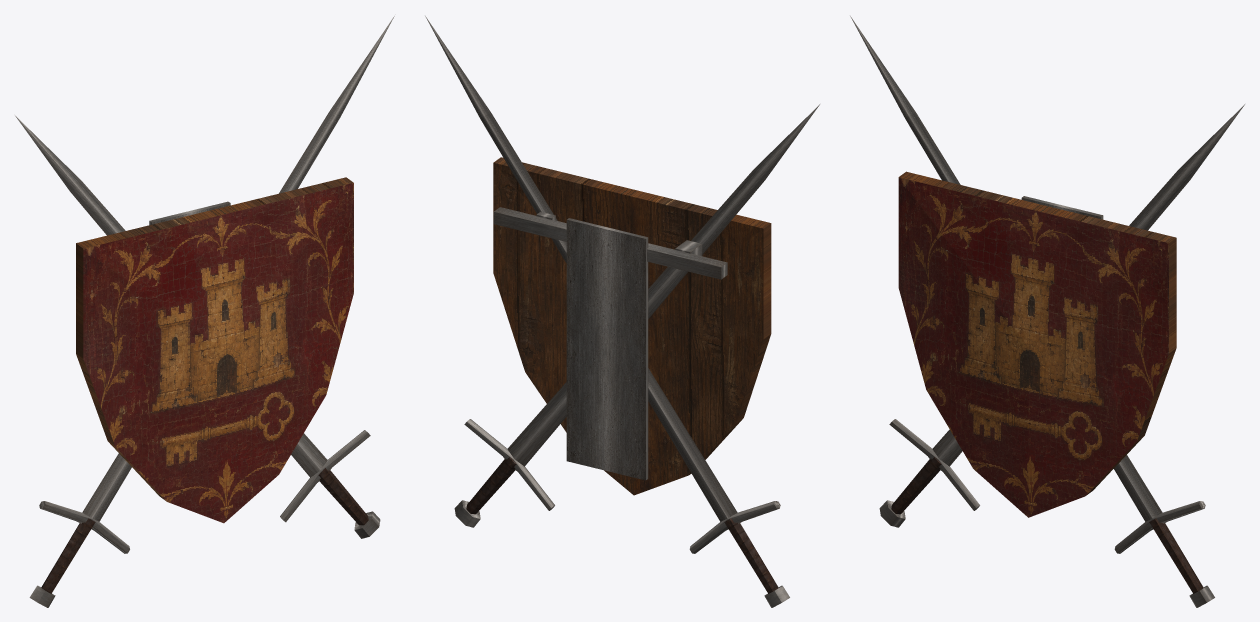
Rendered from level_castle_heraldic_arms.glb.
3 views of the same model, side by side, from view 1: azimuth 30°, elevation 25°; view 2: azimuth 150°, elevation 25°; view 3: azimuth 330°, elevation 25° (orthographic).
Visible parts, largest first — view 1: Wall bearing steel spine; view 2: Wall bearing steel spine; view 3: Wall bearing steel spine.
Boxes of the visible parts, x1,y1,x2,y2 form: Wall bearing steel spine: (15, 16, 394, 607); Wall bearing steel spine: (425, 16, 819, 607); Wall bearing steel spine: (850, 16, 1244, 607).
Bounding box in the file's own units: 1.18 × 1.48 × 0.19.
Materials: 1 (1 with a texture image).
